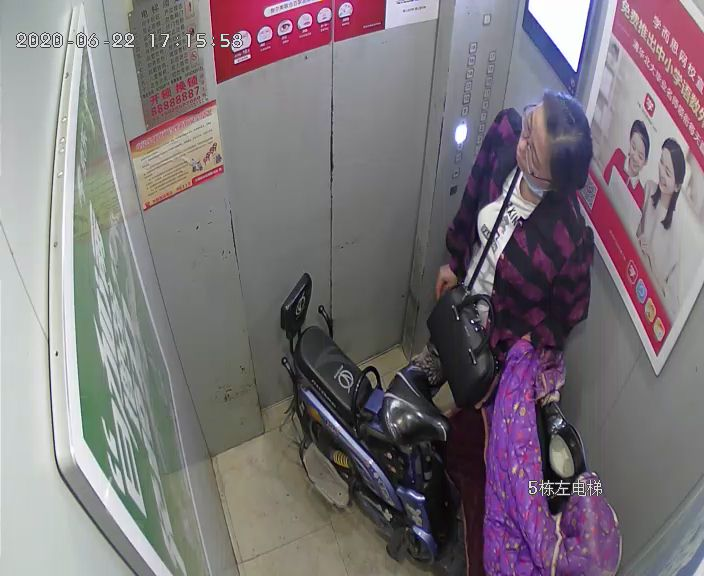Electric-bicycle: (276, 273, 620, 575)
